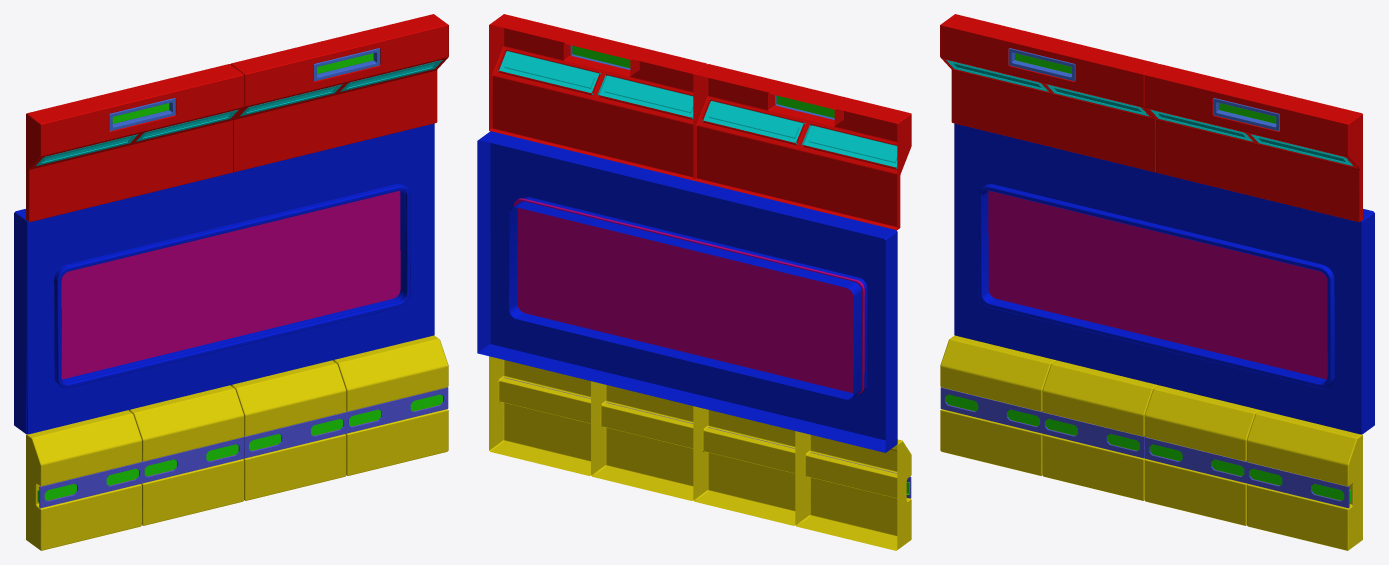
The model's file is Window_A.fbx.
The picture shows the model from 3 angles, left to right: view 1: azimuth 30°, elevation 25°; view 2: azimuth 150°, elevation 25°; view 3: azimuth 330°, elevation 25°; orthographic projection.
Visible parts, largest first — view 1: Window_A; view 2: Window_A; view 3: Window_A.
Part boxes in pixels (x1,y1,x2,y2): Window_A: (14, 14, 448, 550); Window_A: (477, 14, 911, 550); Window_A: (940, 14, 1374, 550).
Bounding box in the file's own units: 4 × 4 × 0.45.
